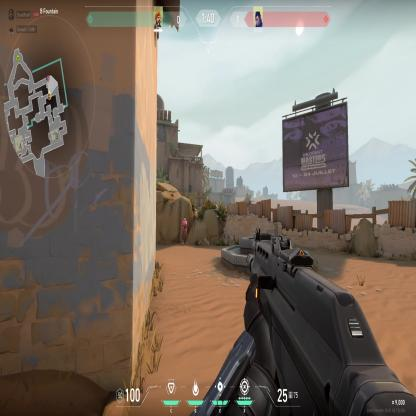enemy: (180, 215, 189, 246)
